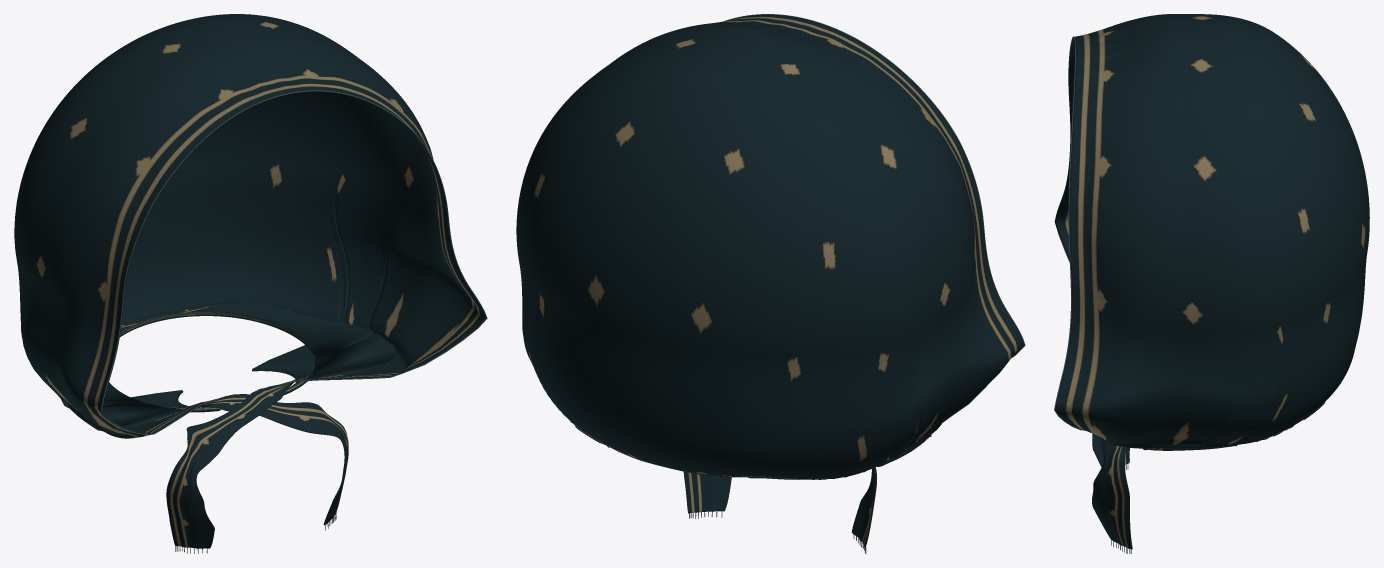
File: Feminine-box-braids-strappy-pashmina250-headgear.glb
3 views of the same model, side by side, from view 1: azimuth 30°, elevation 25°; view 2: azimuth 150°, elevation 25°; view 3: azimuth 270°, elevation 25° (orthographic). The views are drawn at different scales.
Parts seen in each view (by area): view 1: 226 headgear / Headwear / continuous woven pashmina239, 226 headgear / Headwear / face edge239; view 2: 226 headgear / Headwear / continuous woven pashmina239, 226 headgear / Headwear / face edge239; view 3: 226 headgear / Headwear / continuous woven pashmina239, 226 headgear / Headwear / face edge239.
Part boxes in pixels (x1,y1,x2,y2): 226 headgear / Headwear / continuous woven pashmina239: (14, 14, 486, 548); 226 headgear / Headwear / face edge239: (100, 90, 487, 434); 226 headgear / Headwear / continuous woven pashmina239: (516, 14, 1024, 547); 226 headgear / Headwear / face edge239: (723, 14, 1025, 357); 226 headgear / Headwear / continuous woven pashmina239: (1055, 14, 1369, 549); 226 headgear / Headwear / face edge239: (1054, 36, 1084, 430).
Size of the model in its own units: 1.2 by 1.4 by 0.8346.
3 materials, 1 textured.
